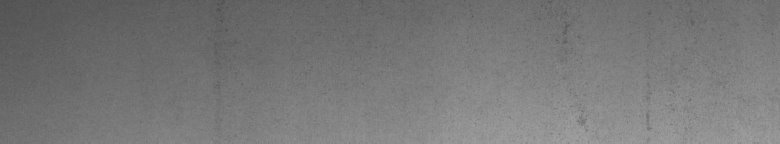ib: (556, 20, 694, 130)
